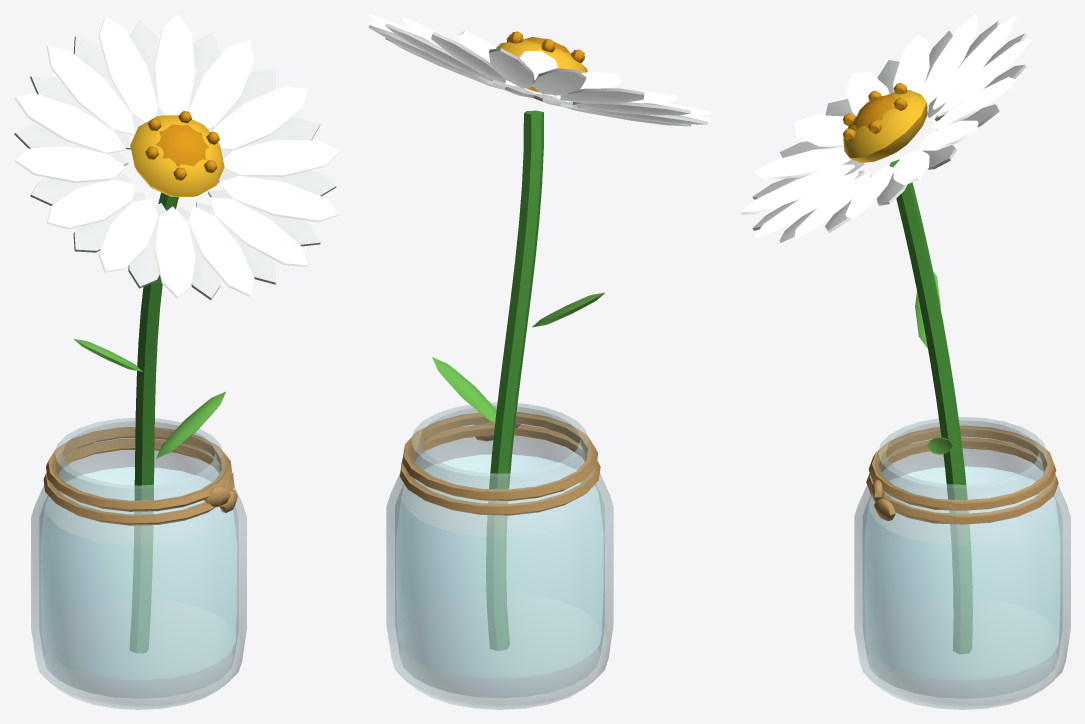
File: daisy_flower.glb
The picture shows the model from 3 angles, left to right: view 1: azimuth 30°, elevation 25°; view 2: azimuth 150°, elevation 25°; view 3: azimuth 270°, elevation 25°; orthographic projection. The views are drawn at different scales.
Visible parts, largest first — view 1: DaisyFlower; view 2: DaisyFlower; view 3: DaisyFlower.
Boxes of the visible parts, <box> form: DaisyFlower: <box>14,14,339,709</box>; DaisyFlower: <box>368,14,711,709</box>; DaisyFlower: <box>740,14,1070,709</box>.
Bounding box in the file's own units: 2.88 × 5.93 × 2.81.
